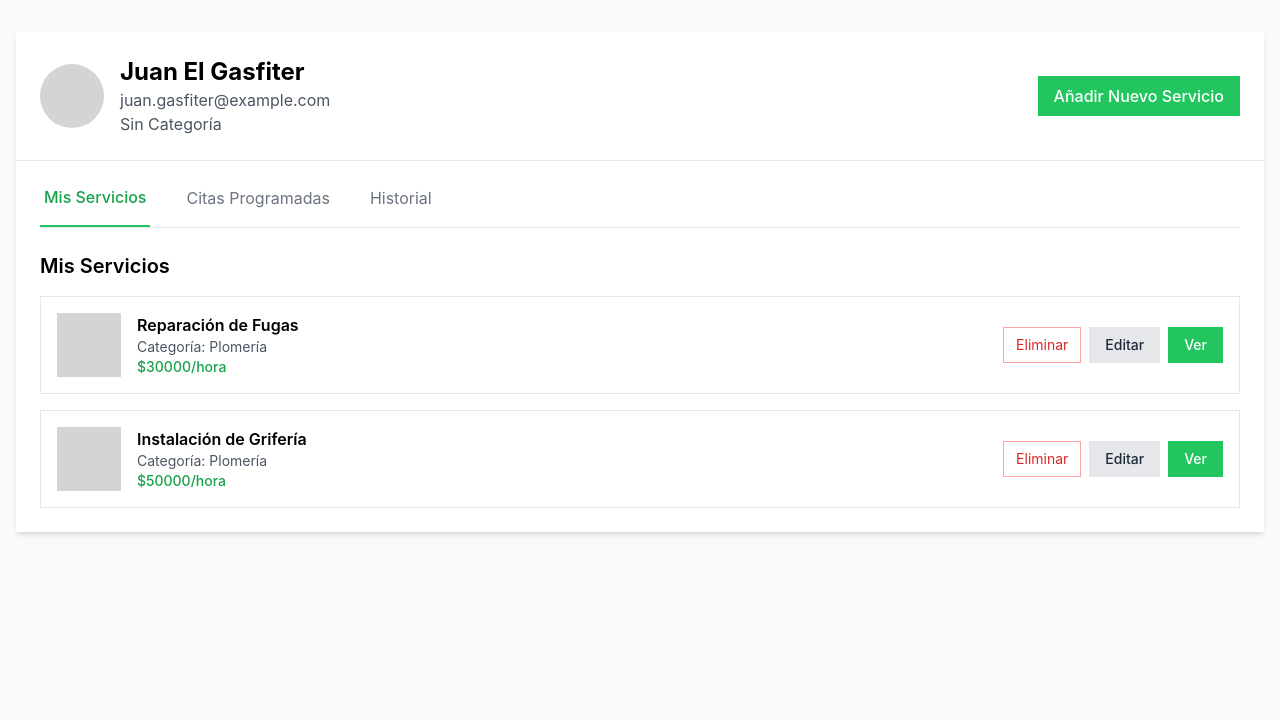
Panel de Profesional (ProDashboard) › debería cambiar a la pestaña de citas y mostrar las citas pendientes
Check: the heading "Reparación de Fugas" is shown, box left=137, top=313, right=299, bottom=337
// Cambiamos de pestaña
What coordinates should you click on to do the following:
click the button "Citas Programadas"
I would click on:
 (258, 206)
Its box is left=182, top=185, right=334, bottom=227.
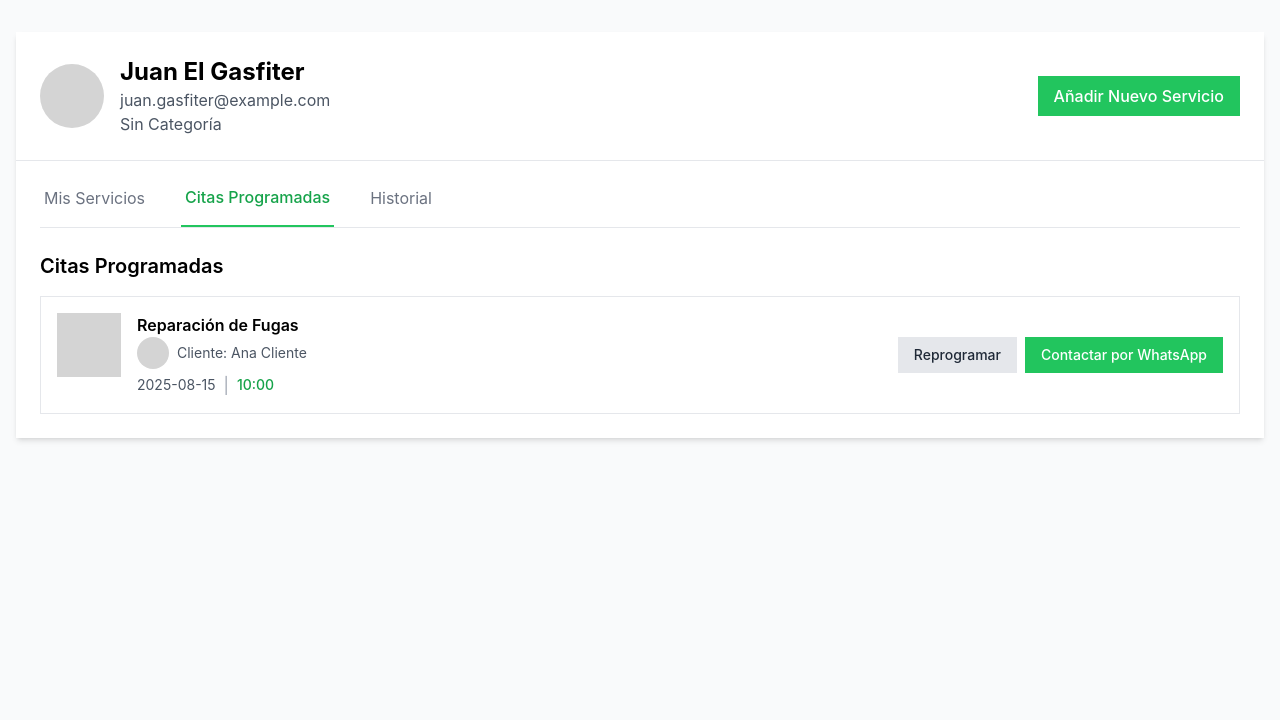
Check: the heading "Citas Programadas" is shown, box left=40, top=254, right=223, bottom=278
Check: the text "Cliente: Ana Cliente" is shown, box left=177, top=343, right=307, bottom=363
